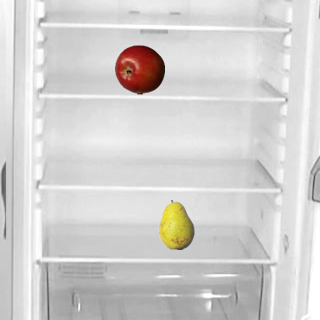Apple Braeburn: (114, 44, 164, 94)
Pear Monster: (151, 199, 201, 249)
